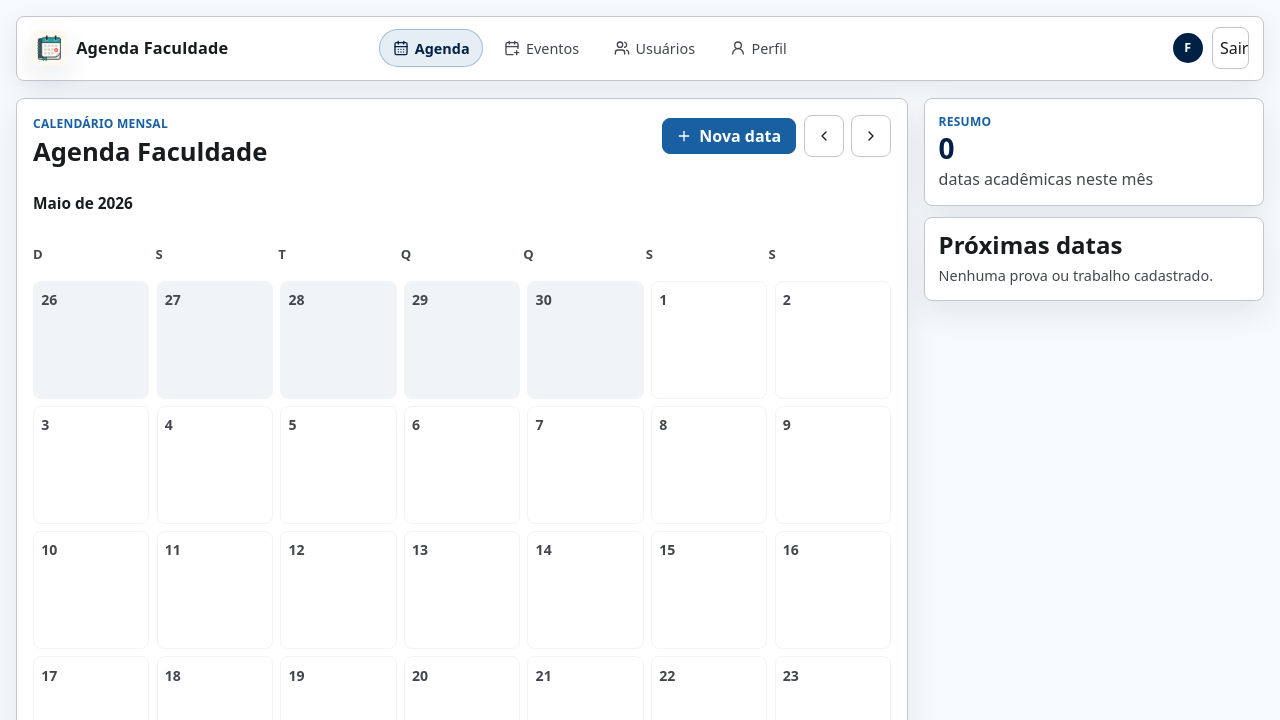
Test: AgendaDashboard › shows the calendar connect action when the user has not connected Google Calendar
This screenshot has width=1280, height=720.
Click the button "Perfil". click: x=758, y=48
box: [716, 29, 800, 67]
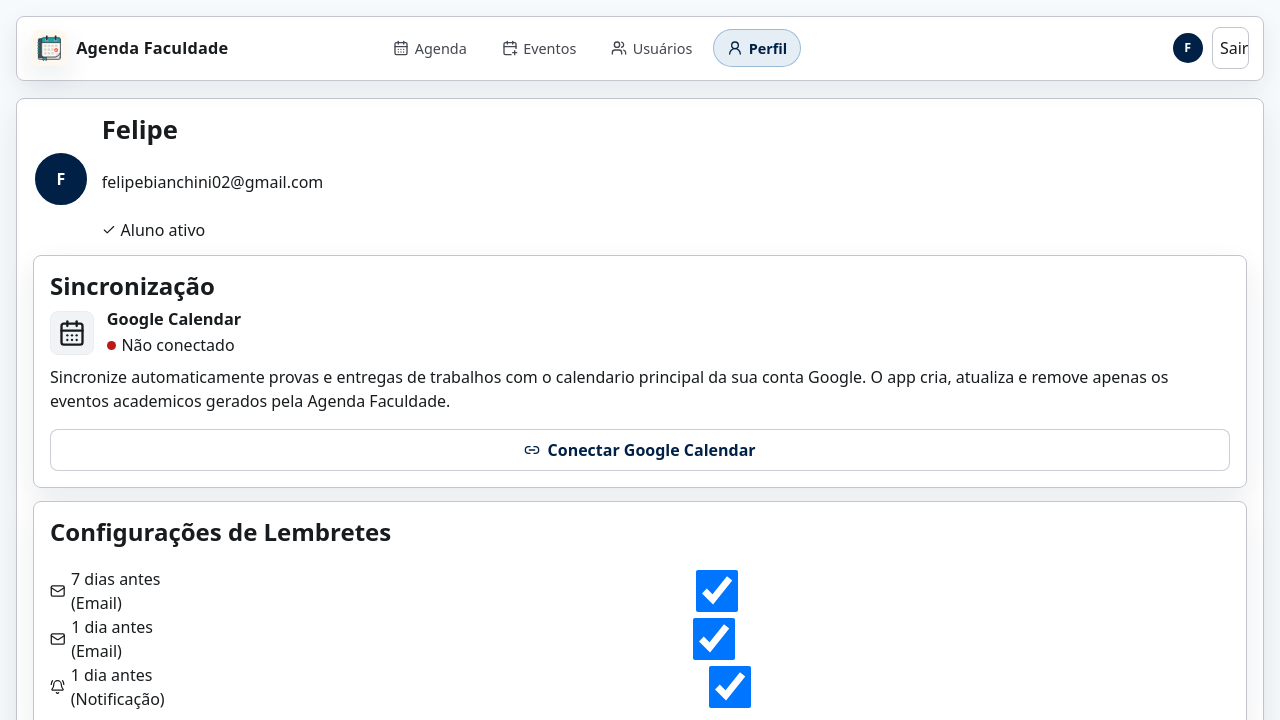
expect the button "Conectar Google Calendar" is shown: met, box [50, 430, 1230, 472]
